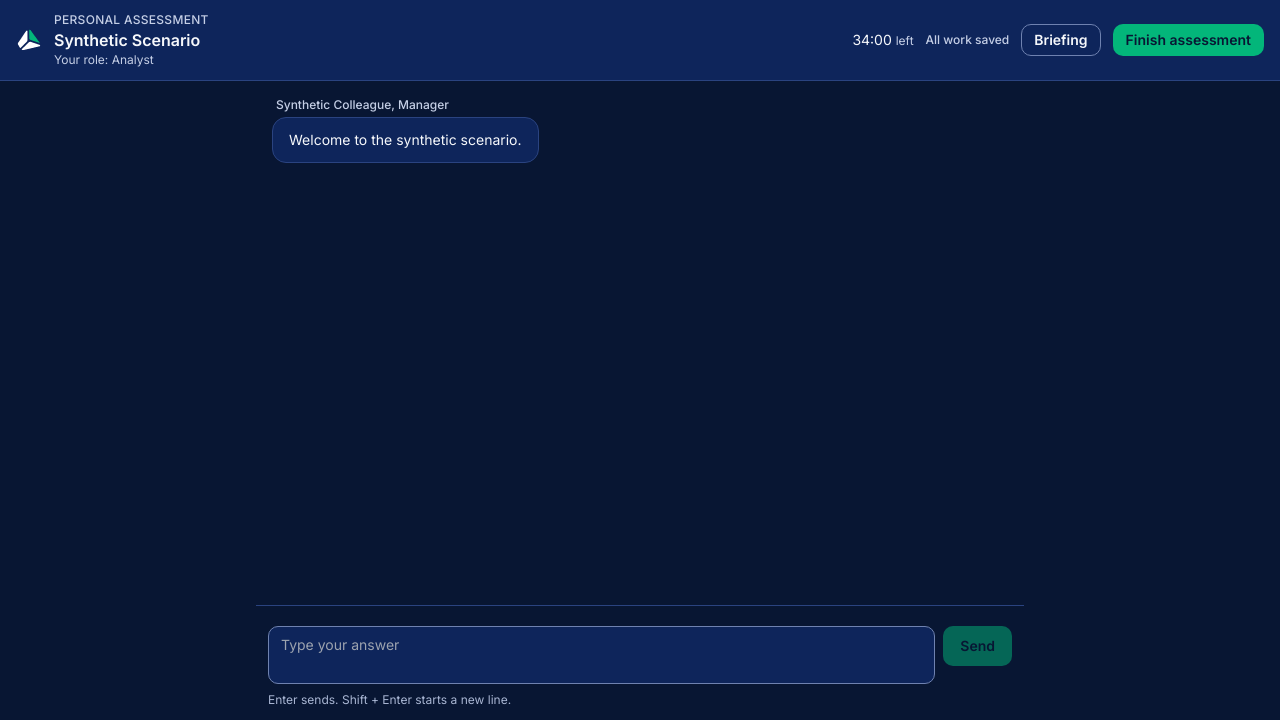
Test case: Assessment Workspace V3 player (§12) › renders the server contract and appends only the turns the server returned
The width and height of the screenshot is (1280, 720).
Expected: the heading "Synthetic Scenario" is shown, [54, 28, 209, 52]
Expected: the text "Welcome to the synthetic scenario." is shown, [272, 117, 538, 163]
Type "My first answer" into the text box labelled "your answer" at (602, 655), box [268, 626, 935, 684]
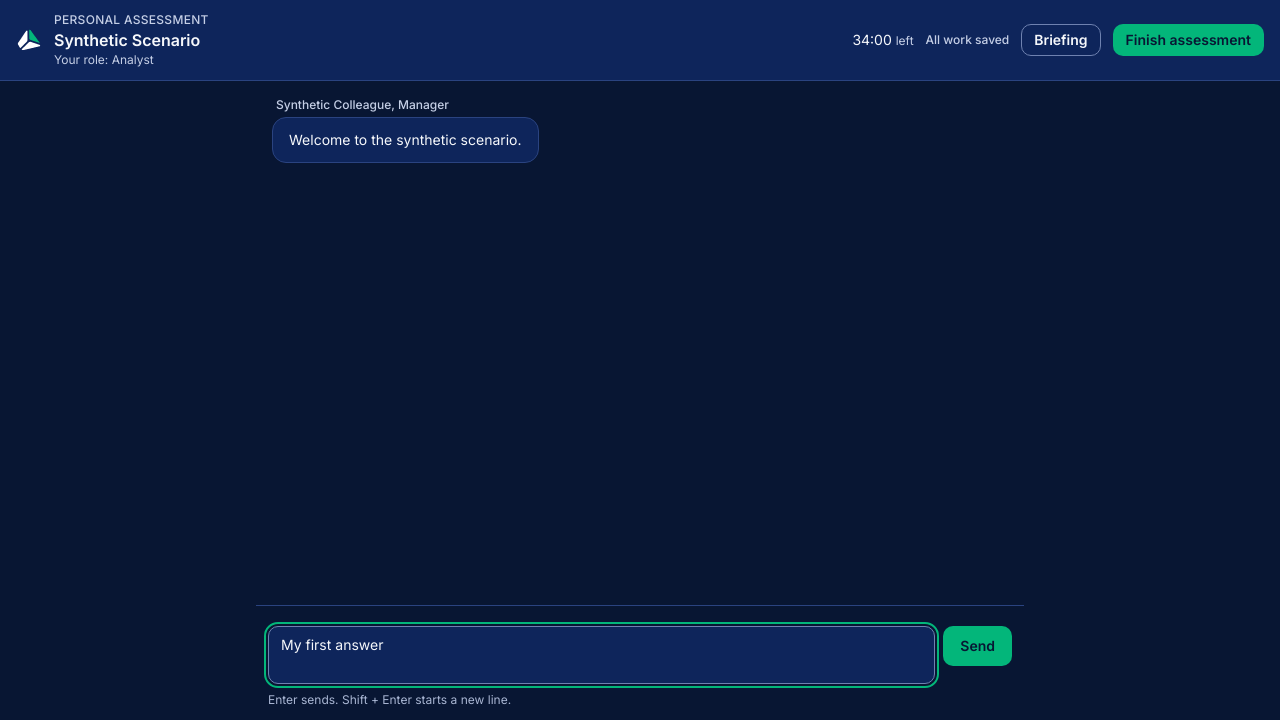
Click the button "Send" at (978, 646), box [943, 626, 1012, 666]
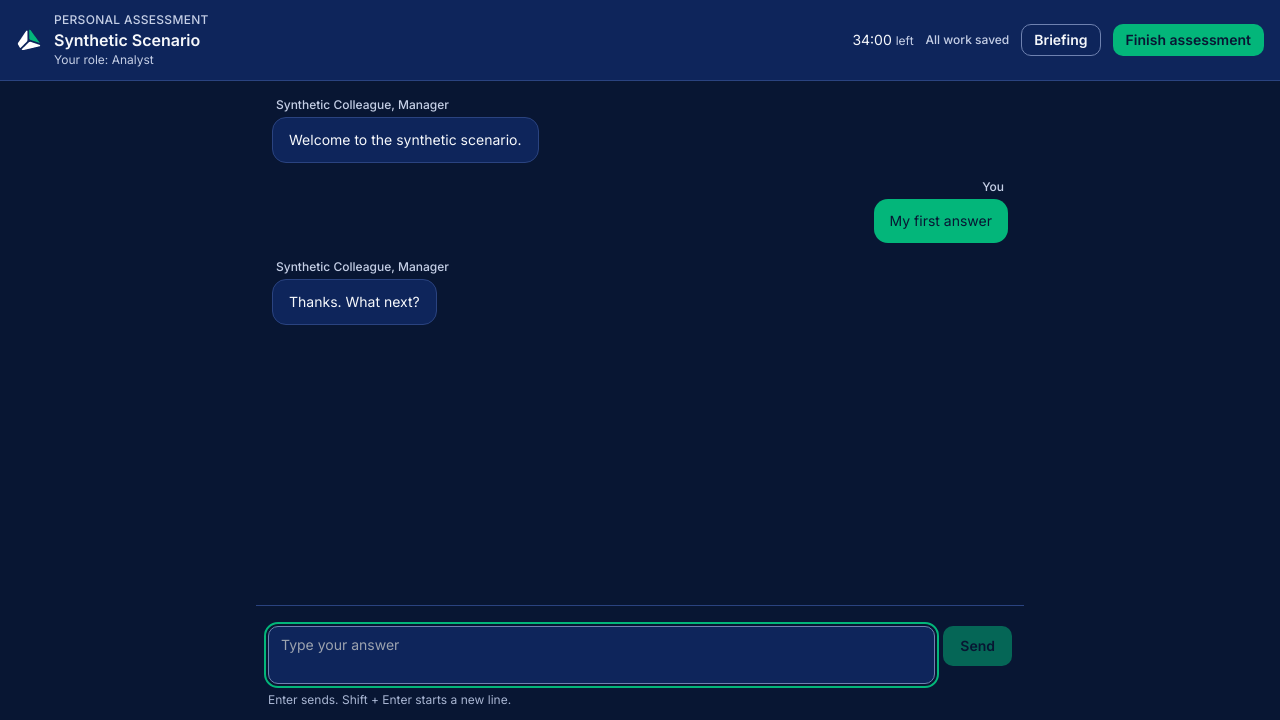
Result: the text "Thanks. What next?" is shown at [272, 279, 437, 325]
Result: the text "My first answer" is shown at [874, 199, 1008, 243]
Result: the text box labelled "your answer" is empty at [268, 626, 935, 684]
